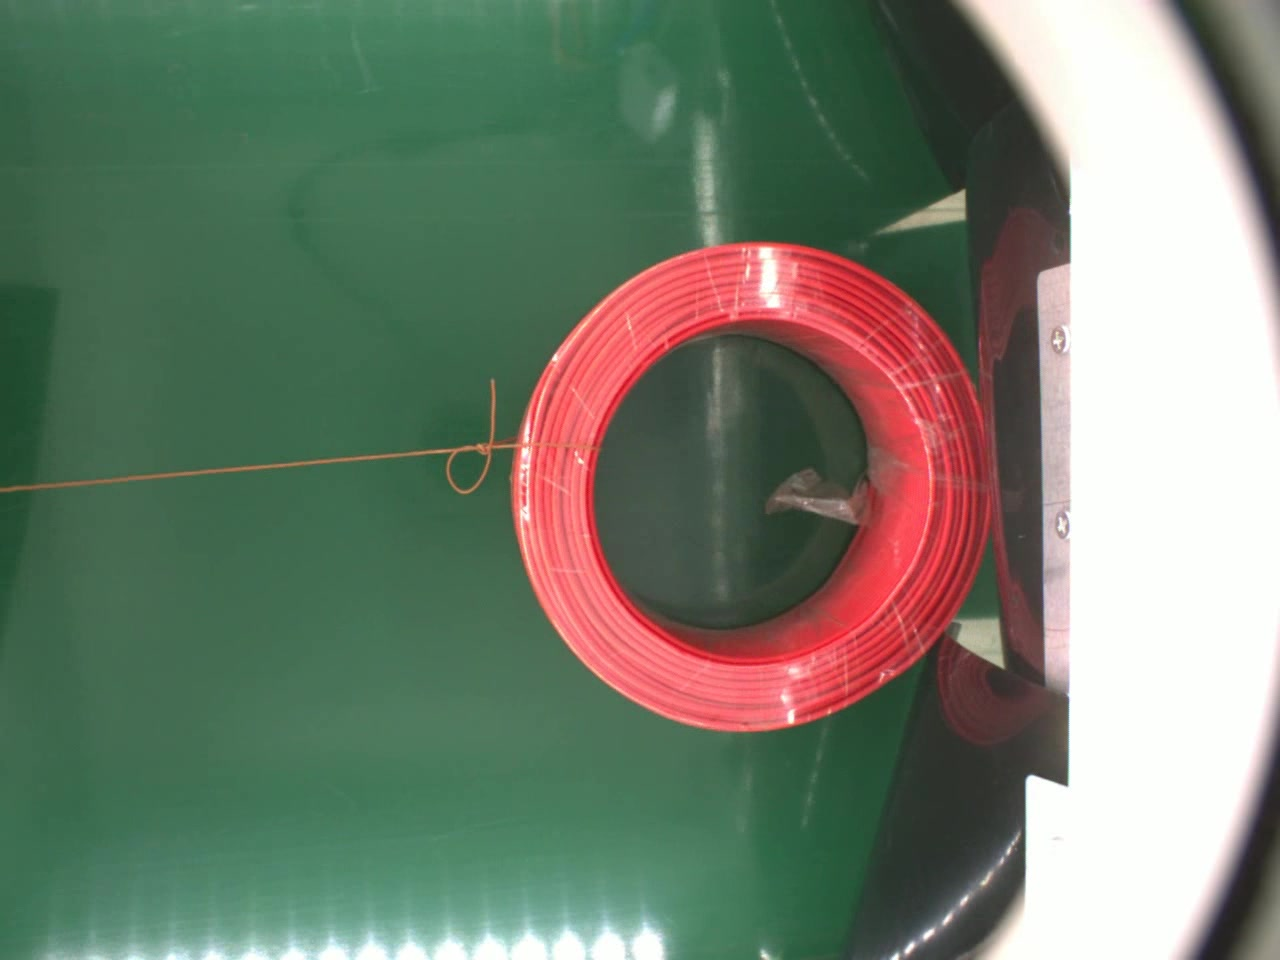red: (507, 237, 993, 734)
